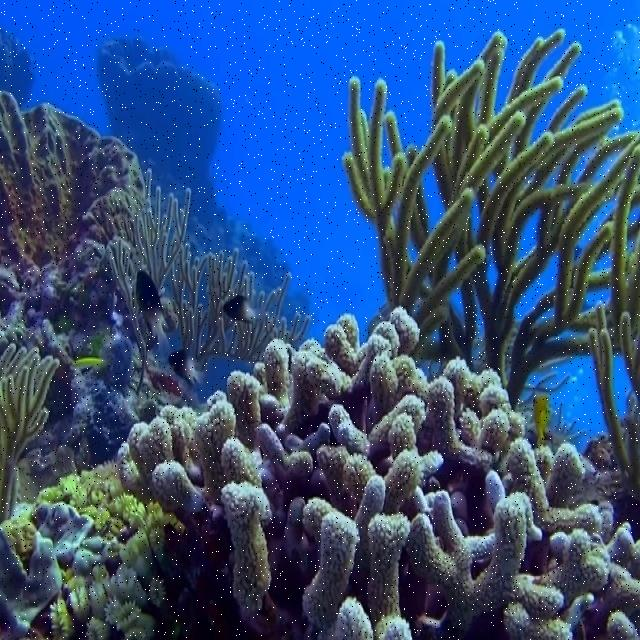aquatic plants: (342, 27, 639, 405), (105, 173, 311, 369), (0, 346, 57, 521), (590, 312, 640, 488)
fish: (137, 271, 168, 355), (225, 294, 262, 321), (171, 351, 199, 384)
reefs: (117, 309, 639, 639)
